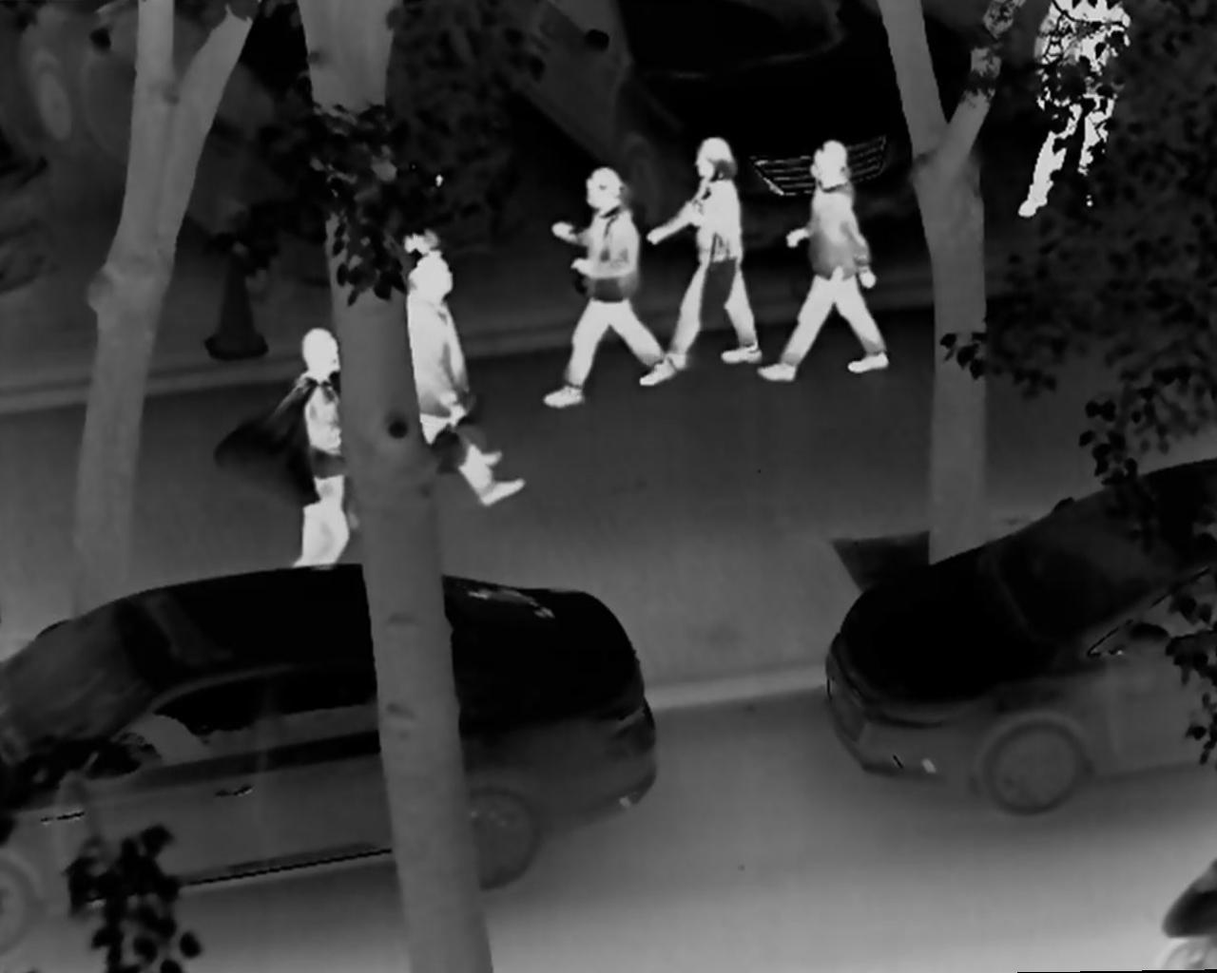person: (389, 252, 524, 509), (756, 140, 891, 383), (541, 167, 675, 407), (647, 137, 764, 369), (395, 230, 502, 468), (283, 326, 353, 575)
